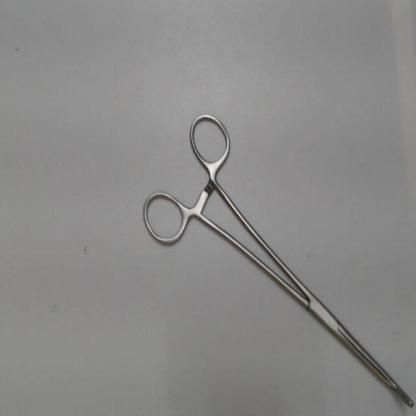Lahey Forceps: (137, 103, 414, 411)
